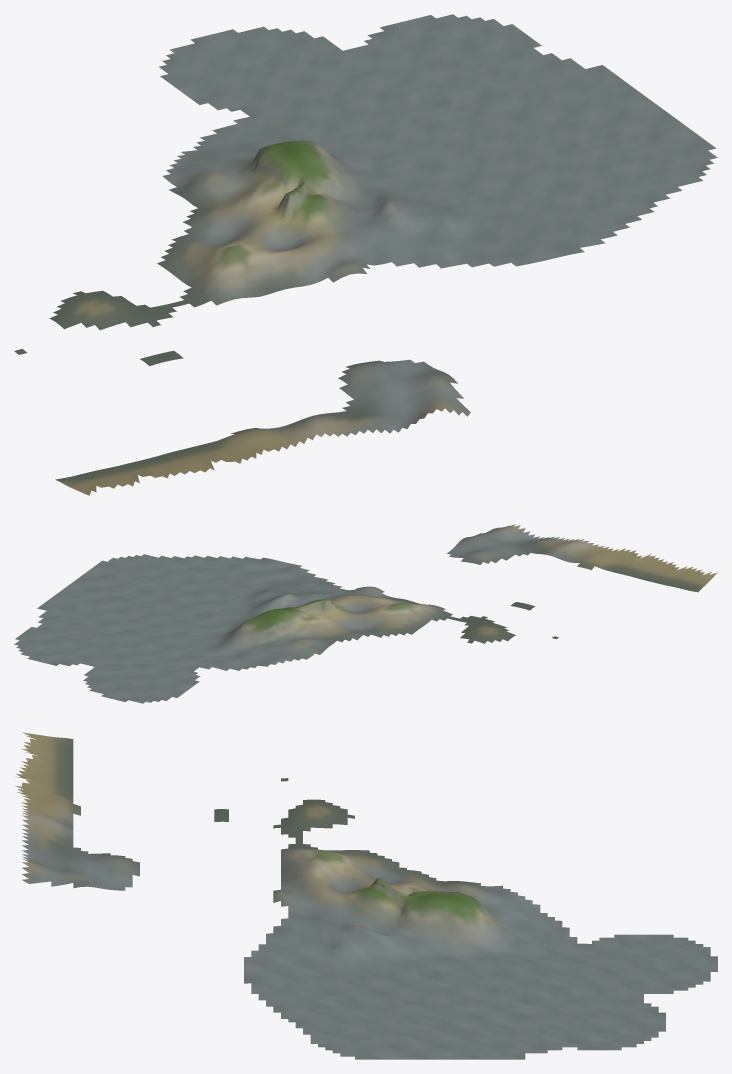
File: coast_tile_x2z1.glb
The picture shows the model from 3 angles, top to bottom: view 1: azimuth 30°, elevation 25°; view 2: azimuth 150°, elevation 25°; view 3: azimuth 270°, elevation 25°; orthographic projection. The views are drawn at different scales.
Parts seen in each view (by area): view 1: coast_tile_x2z1; view 2: coast_tile_x2z1; view 3: coast_tile_x2z1.
Part boxes in pixels (<box>): coast_tile_x2z1: <box>14,14,717,495</box>; coast_tile_x2z1: <box>14,524,717,703</box>; coast_tile_x2z1: <box>15,732,717,1059</box>.
Bounding box in the file's own units: 594 × 28.68 × 570.
